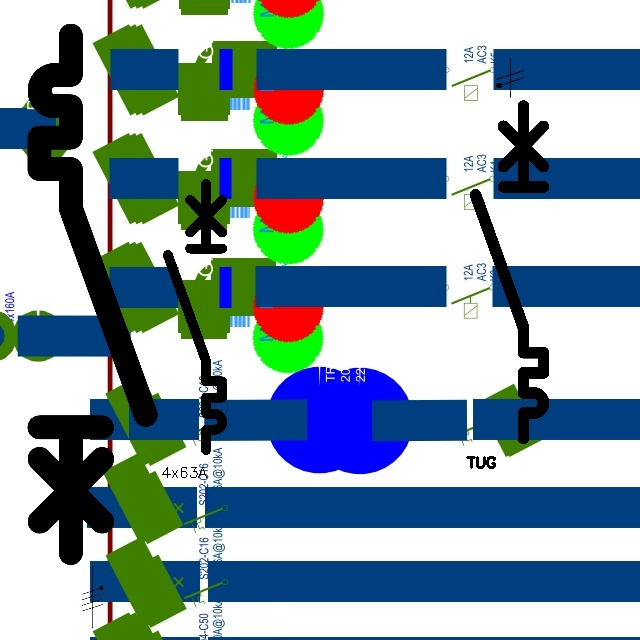interruptor_termomagnetico: (26, 22, 159, 566), (467, 97, 552, 446), (161, 177, 229, 457)
